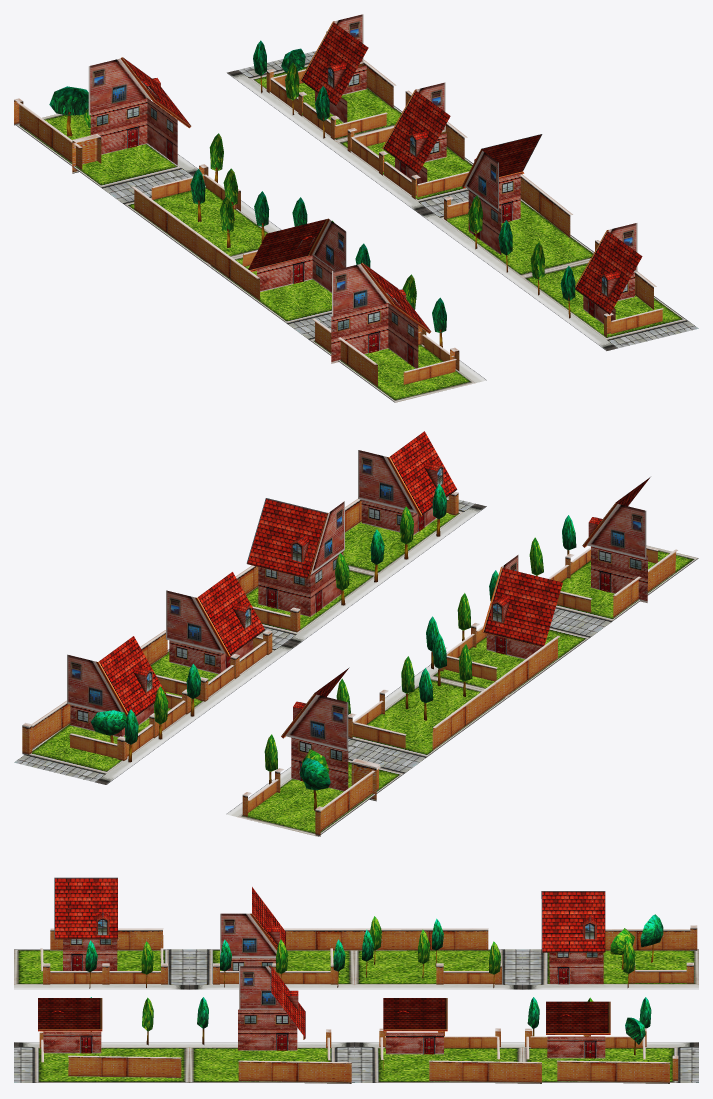
Rendered from eu_uptown_mid1.fbx.
3 views of the same model, one above another, from view 1: azimuth 30°, elevation 25°; view 2: azimuth 150°, elevation 25°; view 3: azimuth 270°, elevation 25° (orthographic). The views are drawn at different scales.
Visible parts, largest first — view 1: eu_uptown_mid1; view 2: eu_uptown_mid1; view 3: eu_uptown_mid1.
Boxes of the visible parts, box(x1,y1,x2,y2) form: eu_uptown_mid1: box(14, 14, 698, 402); eu_uptown_mid1: box(14, 431, 698, 836); eu_uptown_mid1: box(14, 877, 698, 1083).
Size of the model in its own units: 4757 by 1462 by 10000.
